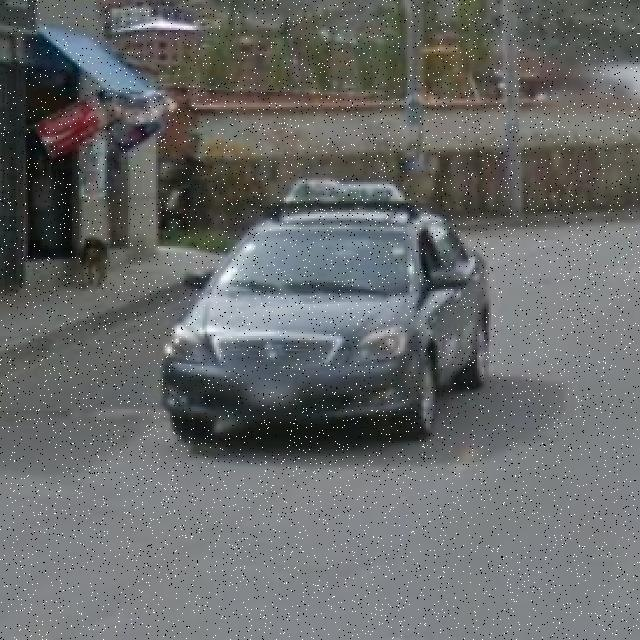cars: (178, 189, 489, 433)
